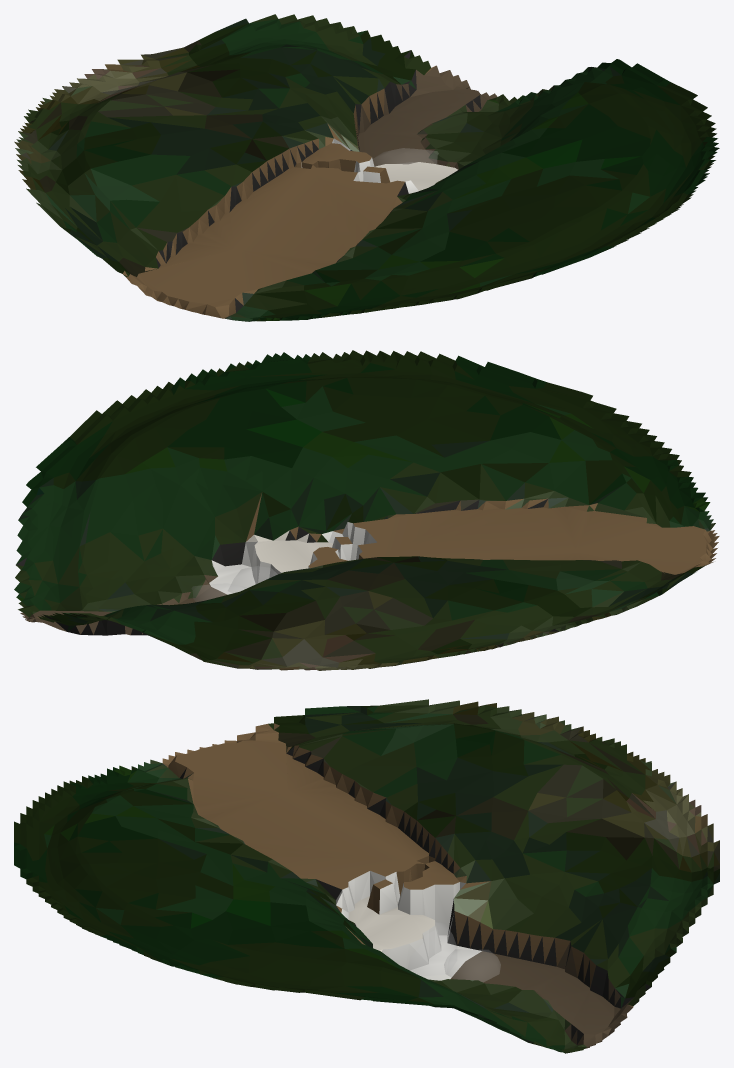
Rendered from monday.glb.
The picture shows the model from 3 angles, top to bottom: view 1: azimuth 30°, elevation 25°; view 2: azimuth 150°, elevation 25°; view 3: azimuth 270°, elevation 25°; orthographic projection.
Parts seen in each view (by area): view 1: sitio; view 2: sitio; view 3: sitio.
Part boxes in pixels (box(x1,y1,x2,y2)): sitio: box(14, 14, 719, 321); sitio: box(14, 350, 719, 670); sitio: box(14, 699, 719, 1053).
Size of the model in its own units: 570 by 91.95 by 570.
